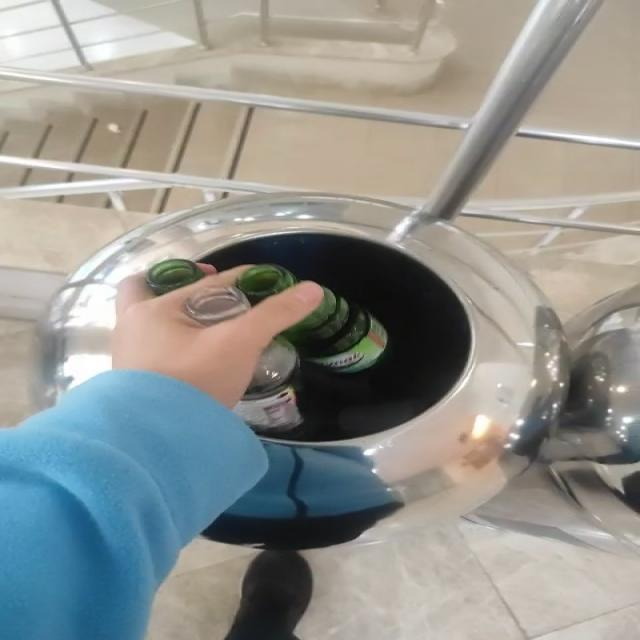glass: (233, 288, 388, 432), (185, 264, 296, 326), (147, 261, 201, 294)
